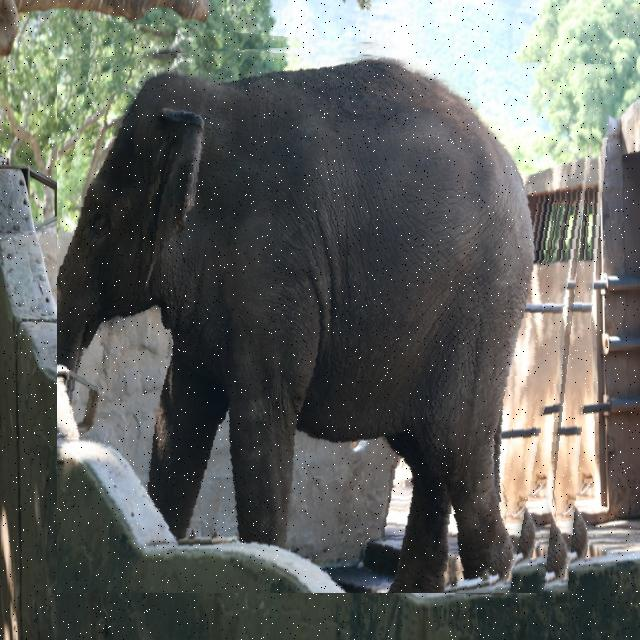elephant: (57, 31, 602, 593)
